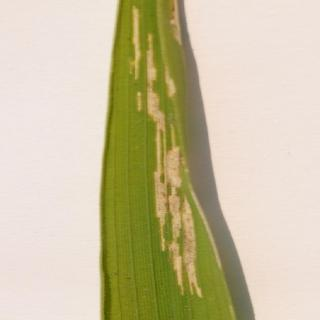Hawar-Daun: (123, 0, 227, 309)
